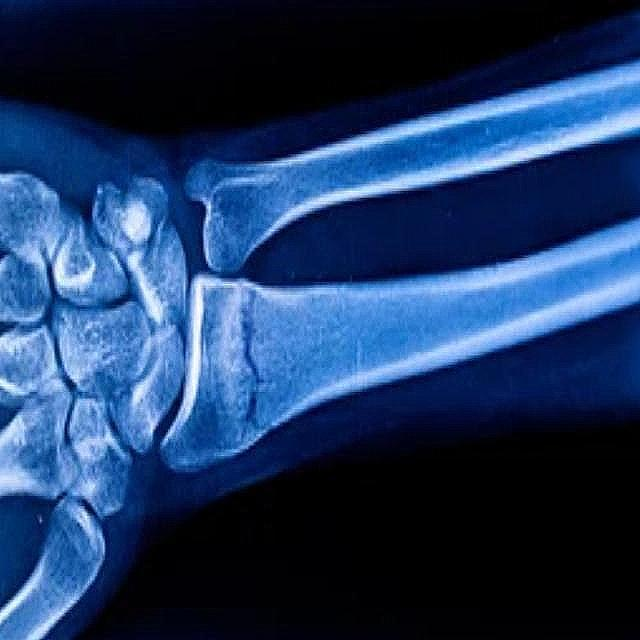bone: (224, 272, 280, 466)
